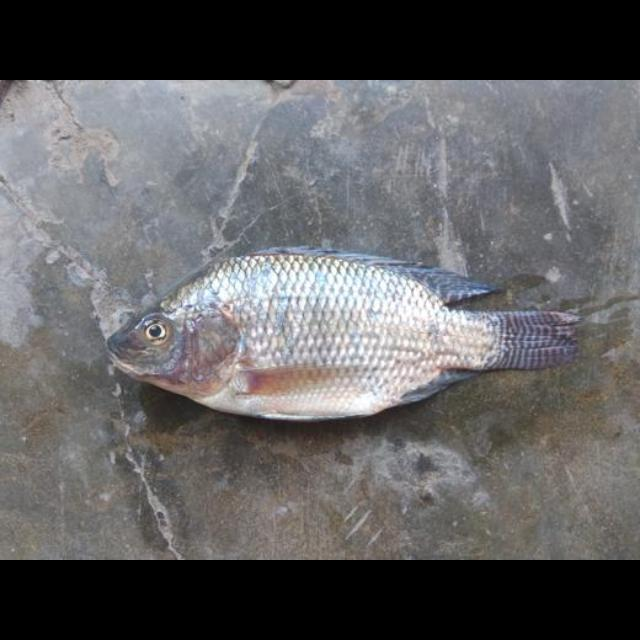Tilapia: (105, 245, 577, 420)
